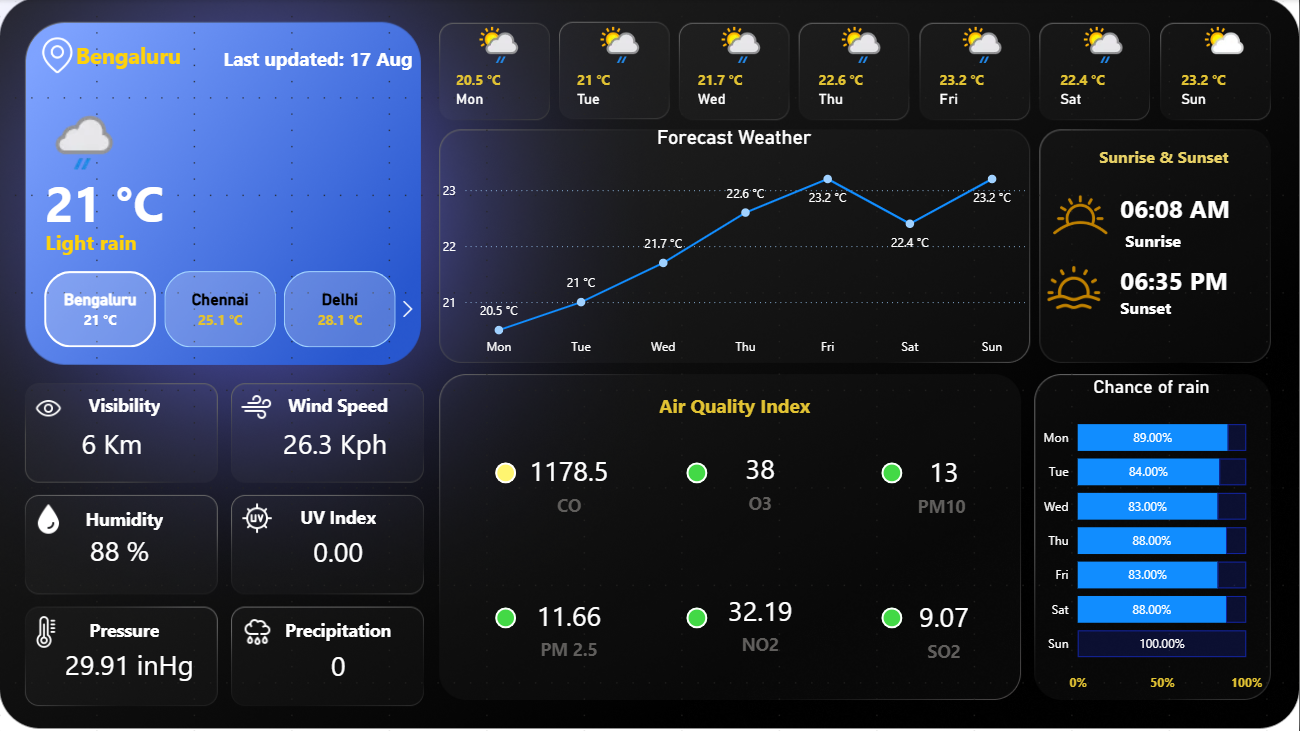

What the dashboard file says about the page in this screenshot:
{"tool":"powerbi","page":{"name":"Dashboard","canvas":[1280,720],"ordinal":0},"visuals":[{"type":"advancedSlicerVisual","fields":{"Values":["Locations.location.name"]},"box":[19.2,262.4,398.1,85.8],"z":0},{"type":"shape","box":[46.1,160,323.8,76.8],"z":1000},{"type":"shape","box":[46.1,212.5,285.4,49.9],"z":2000},{"type":"shape","box":[37.5,30,181.2,50],"z":3000},{"type":"shape","box":[165,32.5,242.5,50],"z":4000},{"type":"image","box":[27.5,32.5,60,45],"z":5000},{"type":"cardVisual","fields":{"Data":["Min(Current.current.condition.icon)"]},"box":[26.9,76.8,110.1,103.7],"z":6000},{"type":"image","box":[27.5,382.5,43.8,38.8],"z":7000},{"type":"image","box":[27.5,491.2,43.8,40],"z":8000},{"type":"image","box":[228.8,490,50,41.2],"z":9000},{"type":"image","box":[228.8,380,48.8,41.2],"z":10000},{"type":"image","box":[227.5,601.2,53.8,41.2],"z":11000},{"type":"image","box":[21.2,601.2,50,41.2],"z":12000},{"type":"shape","box":[66.2,380,113.8,37.5],"z":13000},{"type":"shape","box":[277.5,380,113.8,37.5],"z":14000},{"type":"shape","box":[66.2,492.5,113.8,37.5],"z":15000},{"type":"shape","box":[277.5,490,113.8,37.5],"z":16000},{"type":"shape","box":[277.5,601.2,113.8,37.5],"z":17000},{"type":"shape","box":[66.2,601.2,113.8,37.5],"z":18000},{"type":"card","fields":{"Values":["Measures_.Humidity_%"]},"box":[72.6,508.3,92.3,70.2],"z":19000},{"type":"card","fields":{"Values":["Measures_.Wind_speed_kph"]},"box":[272,402.5,118.2,70.2],"z":20000},{"type":"card","fields":{"Values":["Measures_.Pressure_inHg"]},"box":[57.8,620.3,141.5,70.2],"z":21000},{"type":"card","fields":{"Values":["Measures_.Visibility_km"]},"box":[72.6,402.5,77.5,70.2],"z":22000},{"type":"card","fields":{"Values":["Sum(Current.current.precip_in)"]},"box":[295.4,621.5,77.5,70.2],"z":23000},{"type":"card","fields":{"Values":["Sum(Current.current.uv)"]},"box":[295.4,509.5,77.5,70.2],"z":24000},{"type":"advancedSlicerVisual","fields":{"Values":["Forecast_Day.Day_name"]},"box":[432,13.5,836.9,110.8],"z":25000},{"type":"lineChart","title":"Forecast Weather","fields":{"Y":["Sum(Forecast_Day.forecast.forecastday.day.avgtemp_c)"],"Category":["Forecast_Day.Day_name"]},"box":[432,124.3,583.4,235.1],"z":26000},{"type":"shape","box":[1044.9,134.2,204.3,39.4],"z":27000},{"type":"shape","box":[1104,171.1,128,66.5],"z":28000},{"type":"shape","box":[1104,237.5,136.6,76.3],"z":29000},{"type":"shape","box":[1108.9,225.2,128,23.4],"z":30000},{"type":"shape","box":[1104,290.5,128,23.4],"z":31000},{"type":"image","box":[1020.3,171.1,88.6,81.2],"z":32000},{"type":"image","box":[1020.3,252.3,76.3,61.5],"z":33000},{"type":"hundredPercentStackedBarChart","title":"Chance of rain","fields":{"Category":["Forecast_Day.Day_name"],"Y":["Sum(Forecast_Day.forecast.forecastday.day.daily_chance_of_rain)","Measures_.Left_value_rain"]},"box":[1020.3,370.5,228.9,320],"z":34000},{"type":"shape","box":[632.6,380.3,183.4,36.9],"z":35000},{"type":"card","fields":{"Values":["Sum(Current.current.air_quality.pm10)"]},"box":[879.4,441.6,103.7,69.1],"z":36000},{"type":"card","fields":{"Values":["Sum(Current.current.air_quality.o3)"]},"box":[697.6,439,103.7,69.1],"z":37000},{"type":"card","fields":{"Values":["Sum(Current.current.air_quality.so2)"]},"box":[879.4,585,103.7,69.1],"z":38000},{"type":"card","fields":{"Values":["Sum(Current.current.air_quality.no2)"]},"box":[697.6,578.6,103.7,69.1],"z":39000},{"type":"card","fields":{"Values":["Sum(Current.current.air_quality.pm2_5)"]},"box":[510,583.9,103.7,69.1],"z":40000},{"type":"card","fields":{"Values":["Sum(Current.current.air_quality.co)"]},"box":[509.4,441.6,103.7,67.8],"z":41000},{"type":"shape","box":[869.1,455.7,20.5,20.5],"z":42000},{"type":"shape","box":[869.1,597.8,20.5,20.5],"z":43000},{"type":"shape","box":[677.1,455.7,20.5,20.5],"z":44000},{"type":"shape","box":[489,455.7,20.5,20.5],"z":44001},{"type":"shape","box":[677.1,597.8,20.5,20.5],"z":44002},{"type":"shape","box":[489,597.8,20.5,20.5],"z":44003}]}

Visuals, with their boxes in screenshot pixels (x1, y1, x2, y2), scaled from the page's 1280x720 canvas onto the 1300x731 screenshot:
advancedSlicerVisual - Locations.location.name: 20/266/424/354
shape: 47/162/376/240
shape: 47/216/337/266
shape: 38/30/222/81
shape: 168/33/414/84
image: 28/33/89/79
cardVisual - Min(Current.current.condition.icon): 27/78/139/183
image: 28/388/72/428
image: 28/499/72/539
image: 232/497/283/539
image: 232/386/282/428
image: 231/610/286/652
image: 22/610/72/652
shape: 67/386/183/424
shape: 282/386/397/424
shape: 67/500/183/538
shape: 282/497/397/536
shape: 282/610/397/648
shape: 67/610/183/648
card - Measures_.Humidity_%: 74/516/167/587
card - Measures_.Wind_speed_kph: 276/409/396/480
card - Measures_.Pressure_inHg: 59/630/202/701
card - Measures_.Visibility_km: 74/409/152/480
card - Sum(Current.current.precip_in): 300/631/379/702
card - Sum(Current.current.uv): 300/517/379/589
advancedSlicerVisual - Forecast_Day.Day_name: 439/14/1289/126
"Forecast Weather" lineChart: 439/126/1031/365
shape: 1061/136/1269/176
shape: 1121/174/1251/241
shape: 1121/241/1260/319
shape: 1126/229/1256/252
shape: 1121/295/1251/319
image: 1036/174/1126/256
image: 1036/256/1114/319
"Chance of rain" hundredPercentStackedBarChart: 1036/376/1269/701
shape: 642/386/829/424
card - Sum(Current.current.air_quality.pm10): 893/448/998/519
card - Sum(Current.current.air_quality.o3): 708/446/814/516
card - Sum(Current.current.air_quality.so2): 893/594/998/664
card - Sum(Current.current.air_quality.no2): 708/587/814/658
card - Sum(Current.current.air_quality.pm2_5): 518/593/623/663
card - Sum(Current.current.air_quality.co): 517/448/623/517
shape: 883/463/904/483
shape: 883/607/904/628
shape: 688/463/708/483
shape: 497/463/517/483
shape: 688/607/708/628
shape: 497/607/517/628
